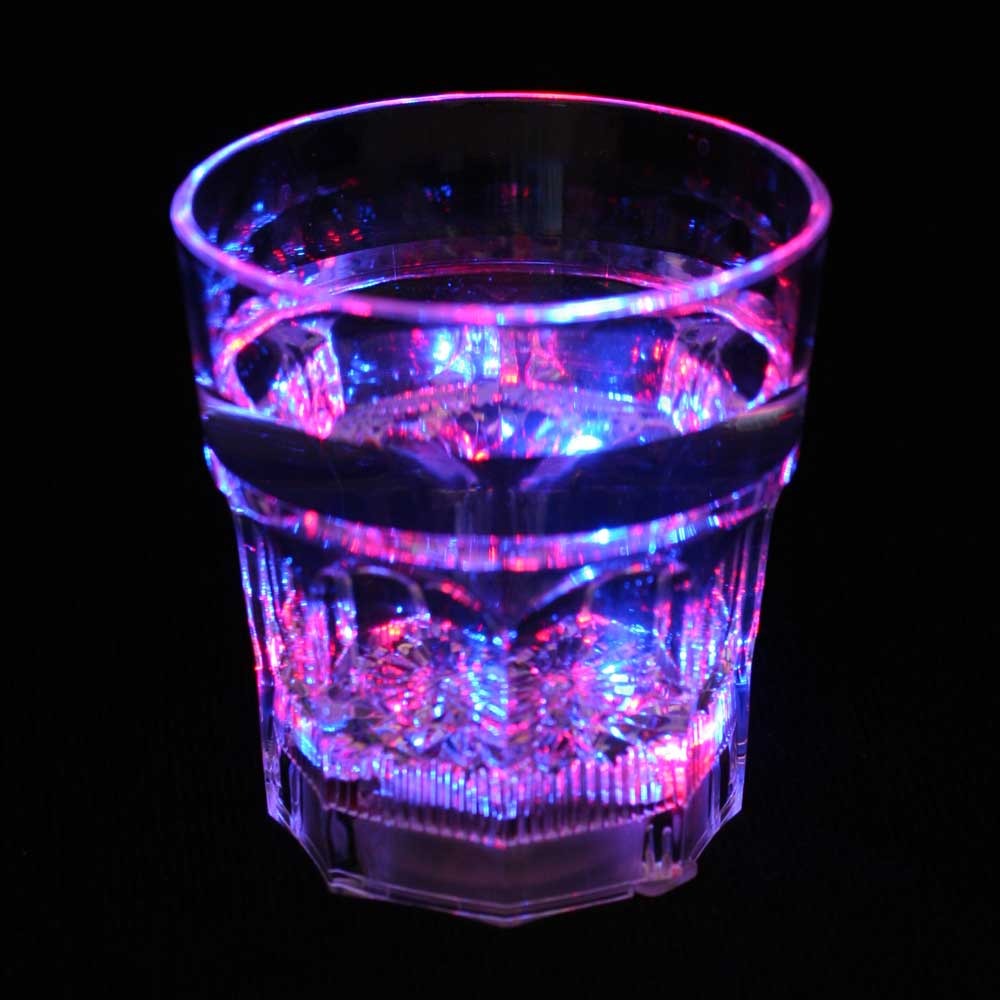glass of water: (158, 110, 840, 923)
